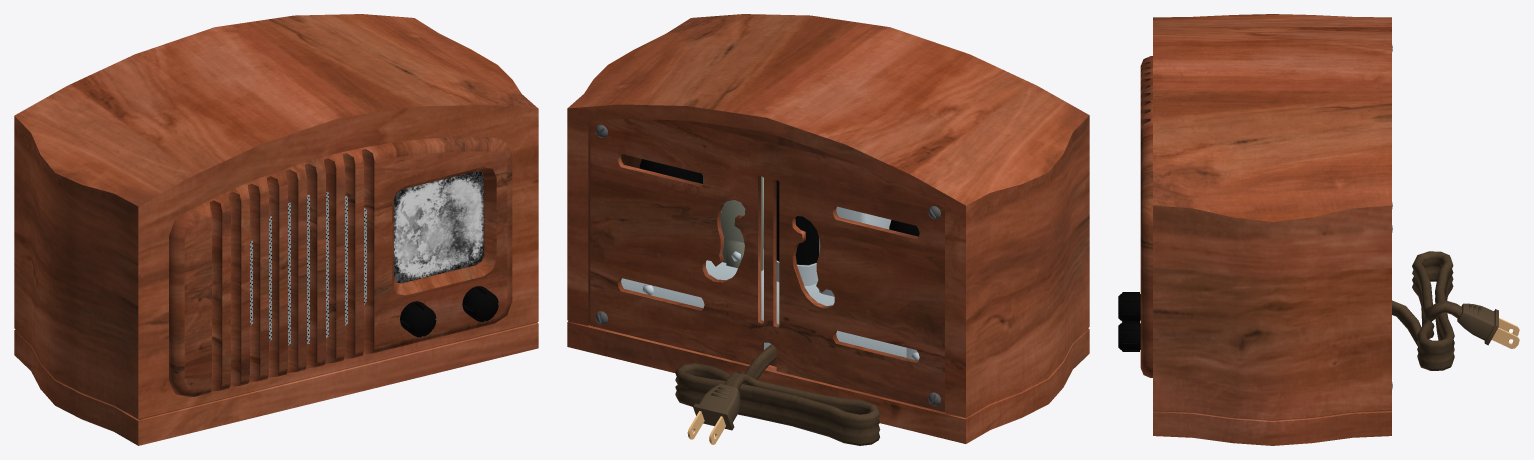
File: philco radio GLB.glb
3 renders of one model, left to right at view 1: azimuth 30°, elevation 25°; view 2: azimuth 150°, elevation 25°; view 3: azimuth 270°, elevation 25°, orthographic. The views are drawn at different scales.
Parts seen in each view (by area): view 1: Caixa_L_2, P_Frontal_L_1, VidroP_Frontal_L_6, Circulo_Caixa_L_0, object 13; view 2: Caixa_L_2, Tampa_Caixa_L_3, Fio_L_9, Internos_L_4, Plug_L_10, Parafusos_L_7; view 3: Caixa_L_2, Fio_L_9, P_Frontal_L_1, Plug_L_10, object 13.
Part boxes in pixels (x1,y1,x2,y2): Caixa_L_2: [14, 14, 538, 445]; P_Frontal_L_1: [169, 136, 512, 397]; VidroP_Frontal_L_6: [394, 171, 483, 283]; Circulo_Caixa_L_0: [250, 192, 366, 345]; object 13: [400, 286, 498, 337]; Caixa_L_2: [567, 14, 1089, 443]; Tampa_Caixa_L_3: [590, 119, 944, 412]; Fio_L_9: [675, 344, 880, 445]; Internos_L_4: [621, 159, 919, 360]; Plug_L_10: [687, 383, 740, 444]; Parafusos_L_7: [595, 124, 940, 405]; Caixa_L_2: [1153, 14, 1391, 445]; Fio_L_9: [1392, 251, 1462, 370]; P_Frontal_L_1: [1140, 56, 1152, 377]; Plug_L_10: [1457, 303, 1519, 348]; object 13: [1118, 292, 1140, 351].
Bounding box in the file's own units: 4.12 × 2.49 × 3.36.
Materials: 13 (12 with a texture image).
